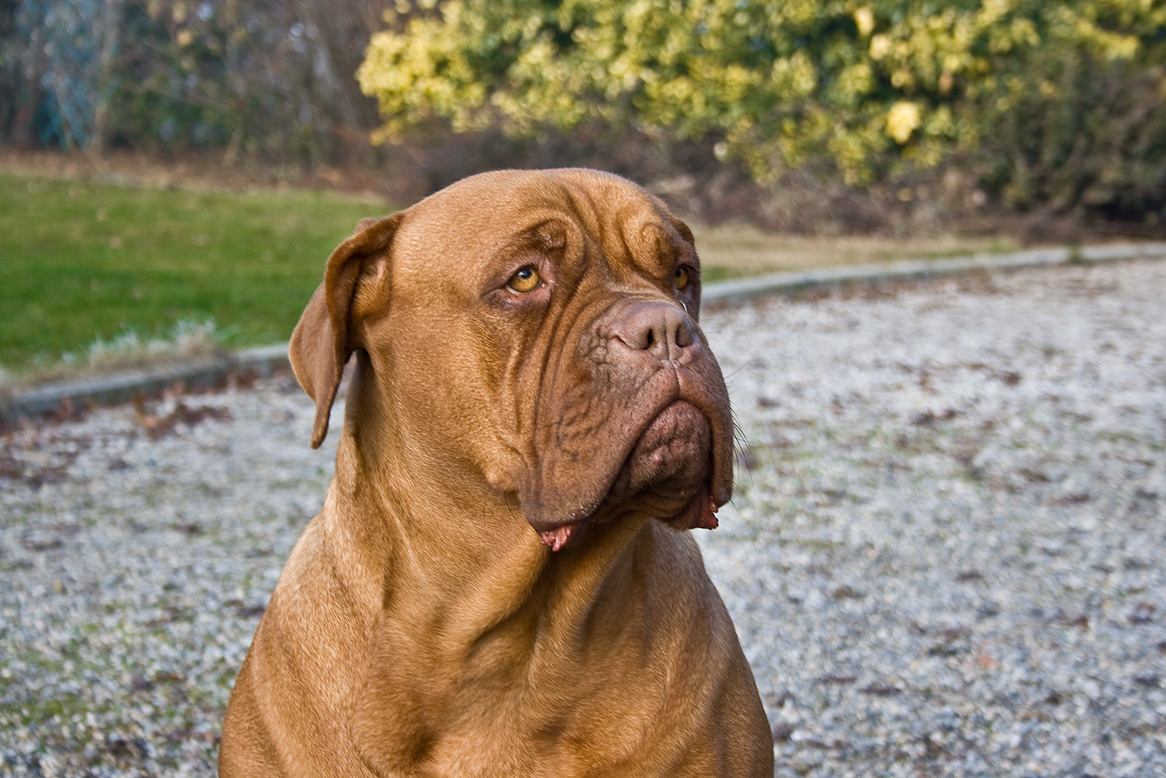dogue_de_bordeaux: (216, 168, 775, 778)
